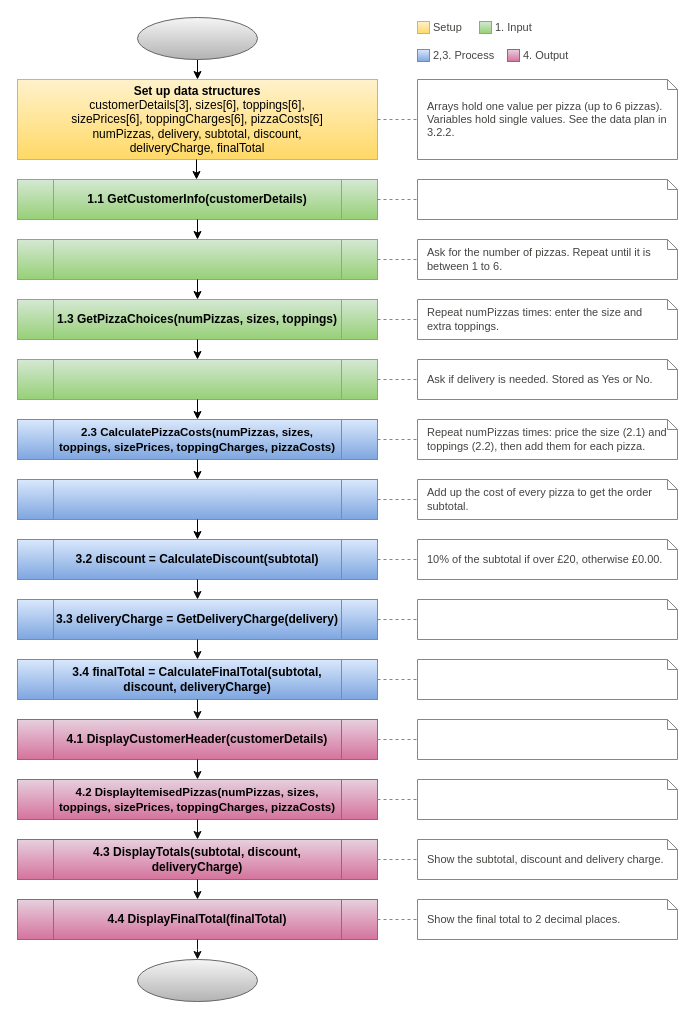
The diagram is 695 pixels wide and 1019 high, and some of its shapes have lost their labels. The centre of each missing label's shape, as x and y in pixels:
"1.2 numPizzas = GetPizzaCount()" goes at (x=197, y=259).
"1.4 delivery = GetDeliveryOption()" goes at (x=197, y=379).
"3.1 subtotal = CalculateSubtotal(numPizzas, pizzaCosts)" goes at (x=197, y=499).
"End" goes at (x=197, y=980).
"Enter name, address and phone number. Stored in customerDetails[0-2]." goes at (x=547, y=199).
"One line per pizza: size, standard cost, topping cost, pizza cost." goes at (x=547, y=799).
"Show the customer's name, address and phone number." goes at (x=547, y=739).
"Start" goes at (x=197, y=38).
"Subtotal minus discount, plus the delivery charge." goes at (x=547, y=679).
"£2.50 if delivery is Yes, otherwise £0.00." goes at (x=547, y=619).
